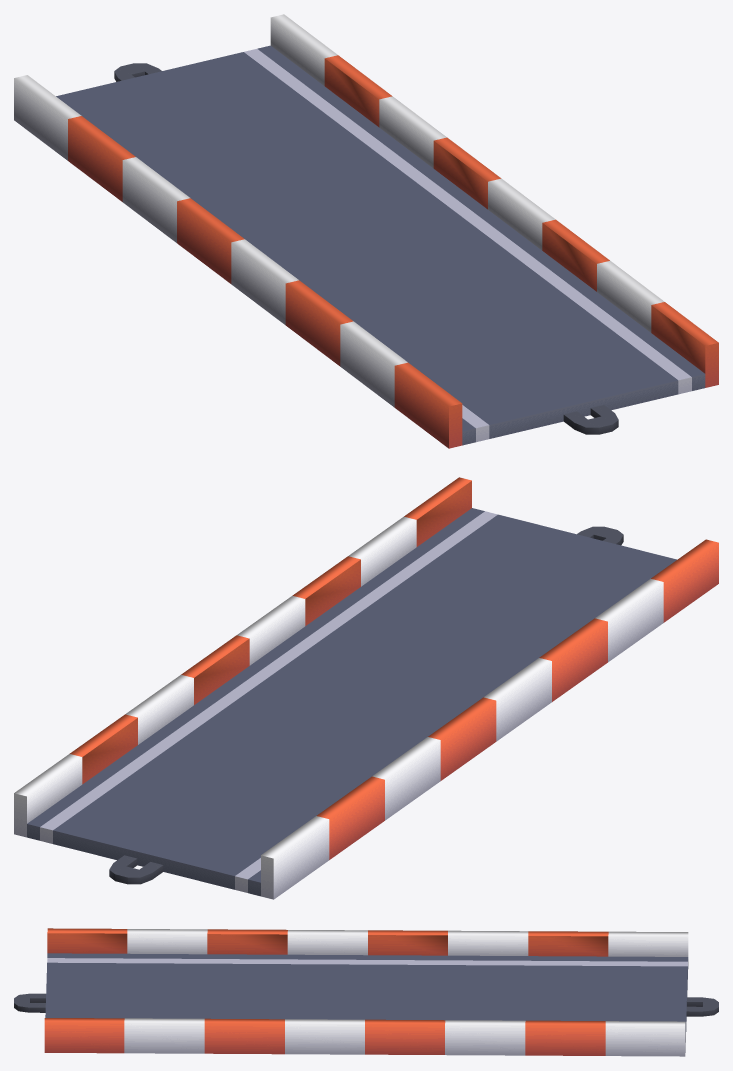
The model's file is track-road-wide-straight.023_lev2_lev3.glb.
The picture shows the model from 3 angles, top to bottom: view 1: azimuth 30°, elevation 25°; view 2: azimuth 150°, elevation 25°; view 3: azimuth 270°, elevation 25°; orthographic projection. The views are drawn at different scales.
Visible parts, largest first — view 1: track-road-wide-straight.023_lev2_lev3; view 2: track-road-wide-straight.023_lev2_lev3; view 3: track-road-wide-straight.023_lev2_lev3.
Part boxes in pixels (x1,y1,x2,y2): track-road-wide-straight.023_lev2_lev3: (14,14,718,448); track-road-wide-straight.023_lev2_lev3: (14,477,718,899); track-road-wide-straight.023_lev2_lev3: (14,928,718,1056).
Bounding box in the file's own units: 2.08 × 0.3 × 6.33.
1 material, 1 textured.
